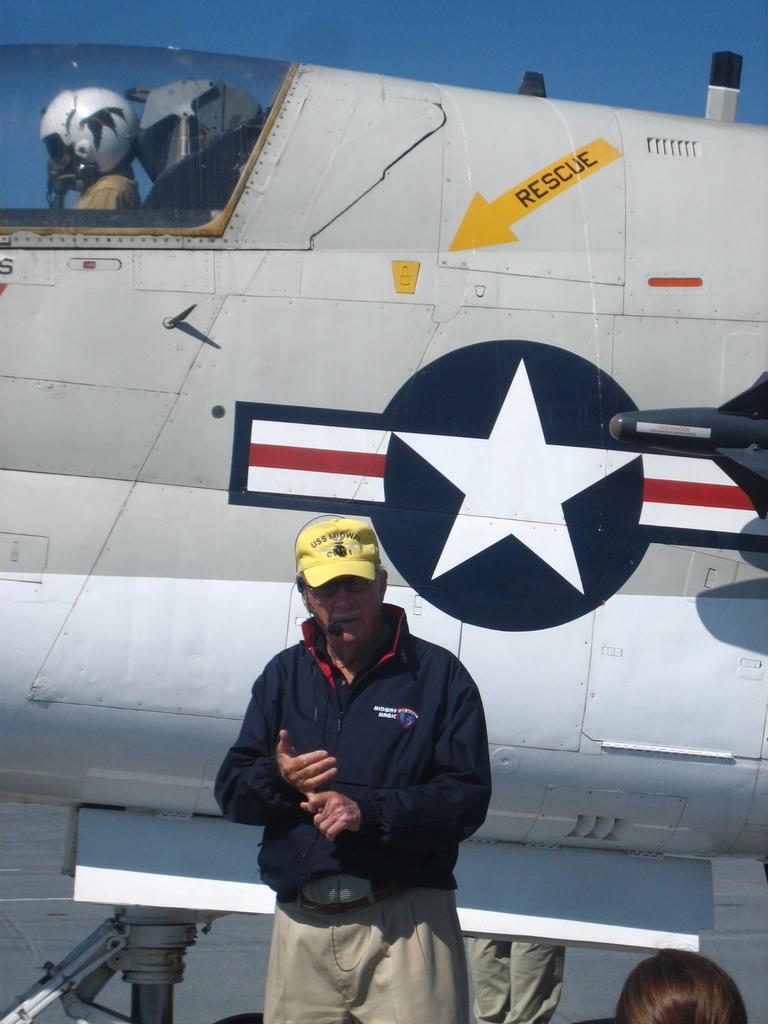Person: (210, 514, 492, 1024), (38, 85, 140, 217), (606, 941, 752, 1024), (459, 930, 568, 1024)
